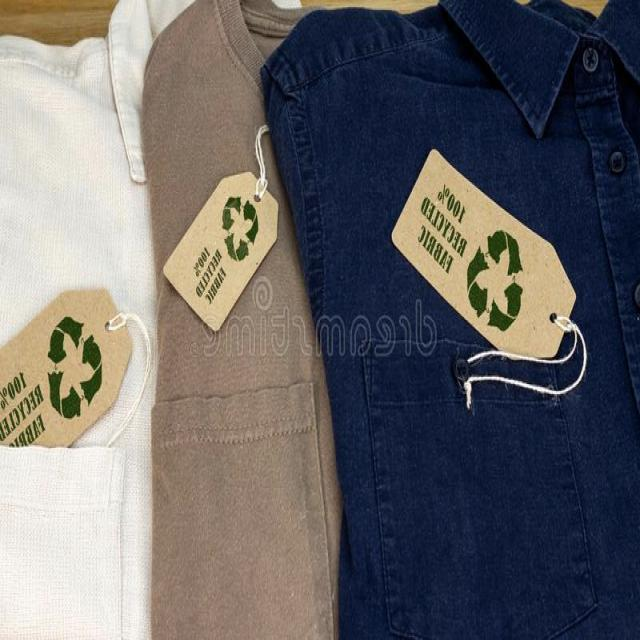clothes: (34, 84, 509, 596)
